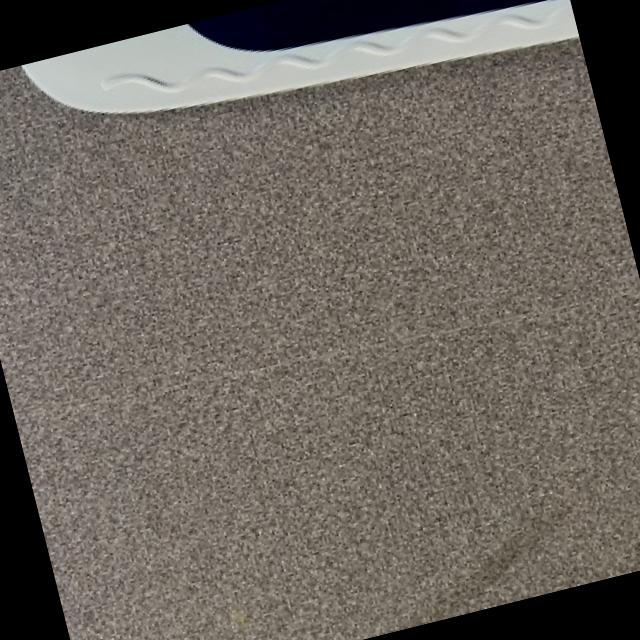healthy: (25, 0, 578, 110)
